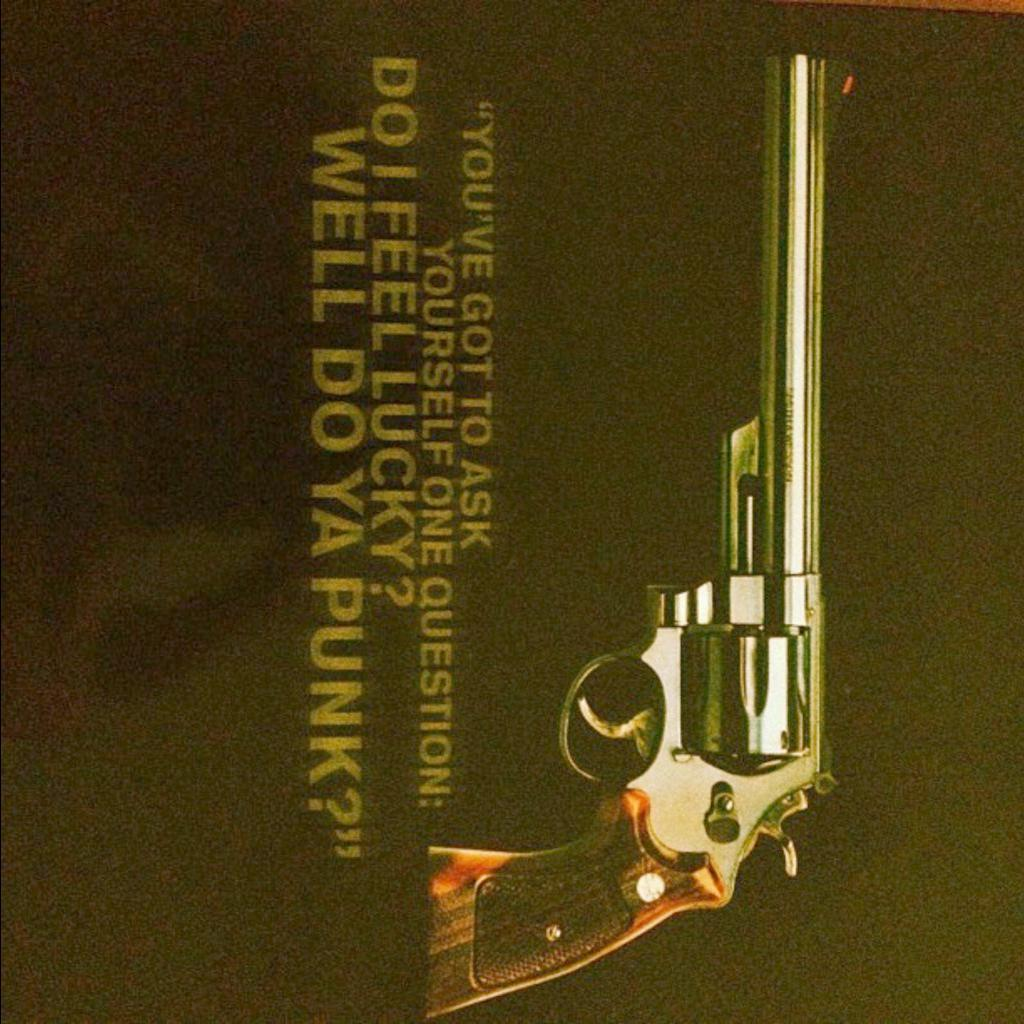gun: (412, 54, 836, 1014)
